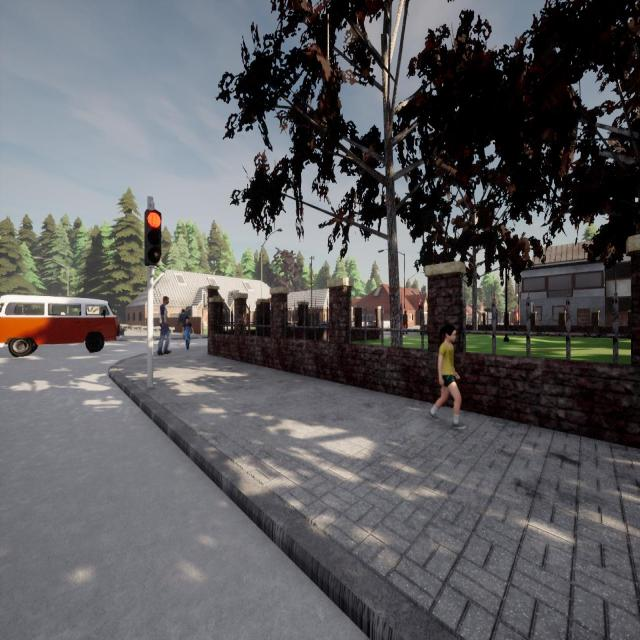Pedestrian: (429, 324, 467, 429), (156, 296, 172, 356), (182, 316, 194, 351), (178, 308, 188, 326), (403, 310, 408, 335)
Vehicle: (0, 295, 119, 356)
traffic_light: (144, 210, 162, 267), (203, 293, 207, 308), (418, 302, 421, 310)
